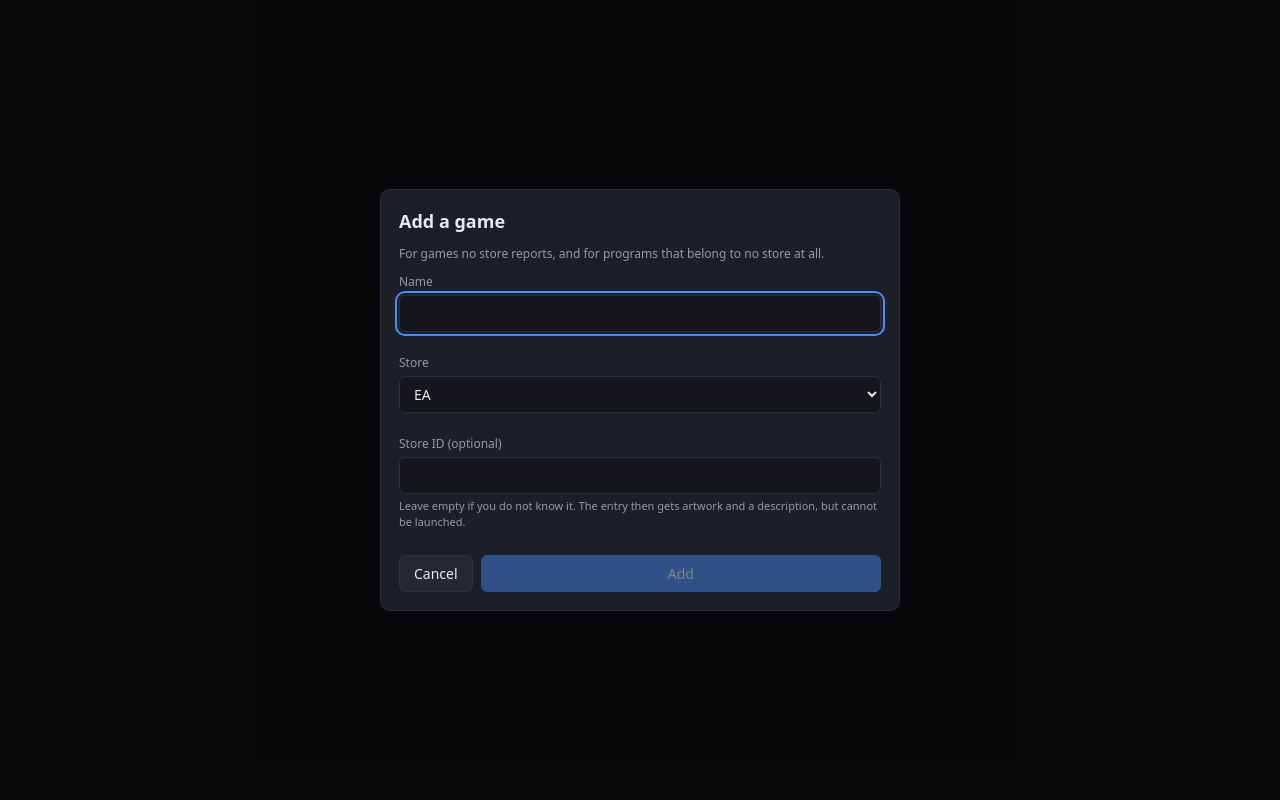
it: AddGameDialog › shows the thrown error message when adding a game rejects
Type "A Game" into the field labelled "Name" at (640, 314), box [399, 295, 881, 332]
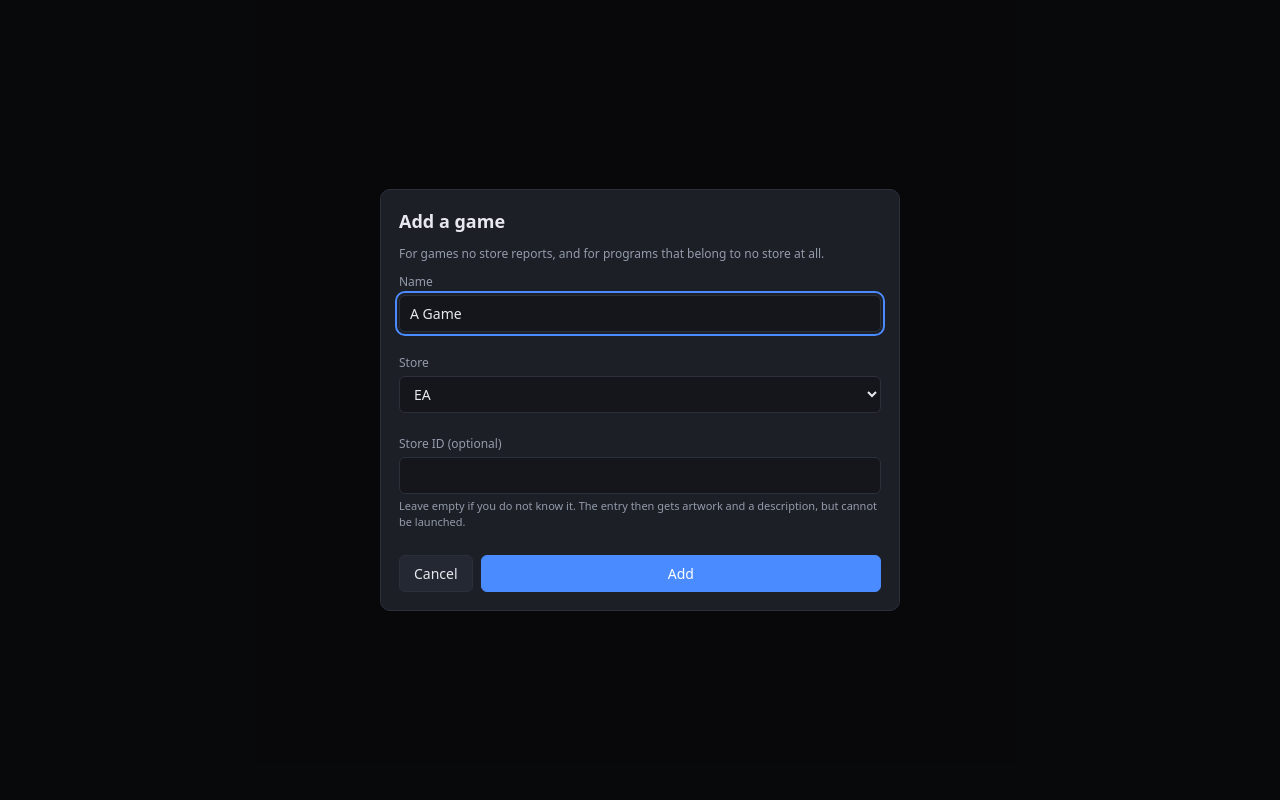
Click the button "Add" at (681, 573), box [481, 555, 881, 592]
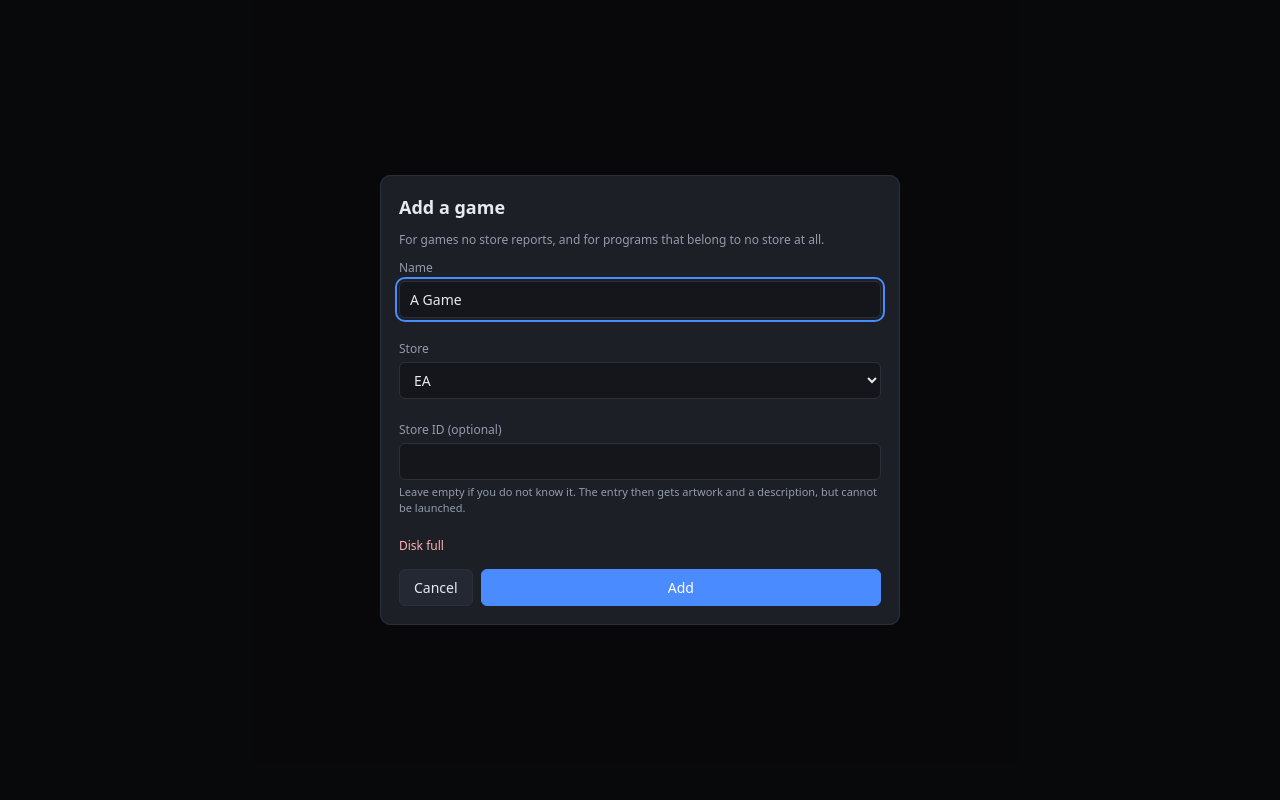
Expected: the text "Disk full" is shown, [399, 537, 444, 554]
